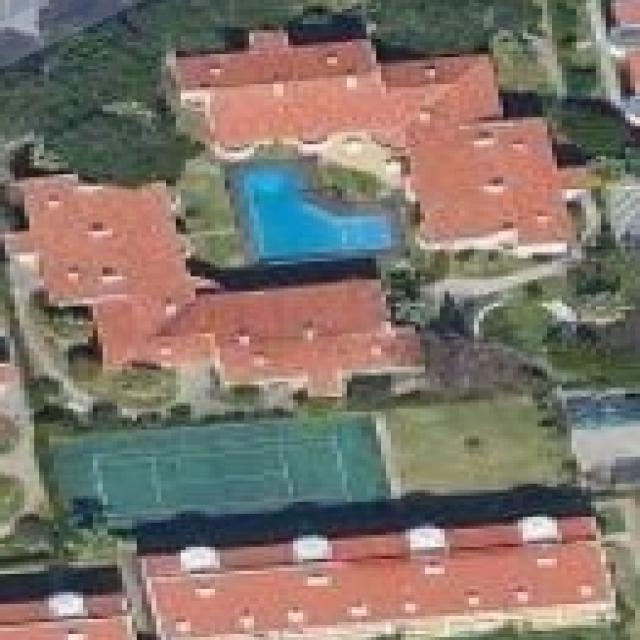pool: (215, 150, 408, 264)
